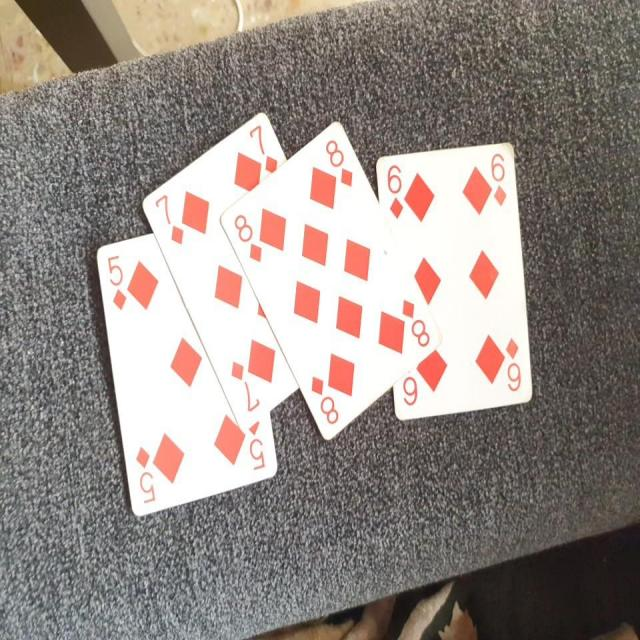5 Diamonds: (97, 231, 280, 520)
6 Diamonds: (375, 141, 535, 418)
7 Diamonds: (140, 112, 300, 431)
8 Diamonds: (220, 122, 442, 442)
